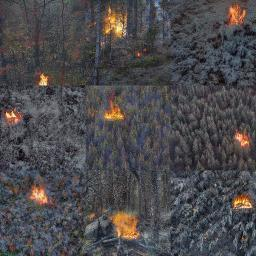Small fire: (95, 3, 139, 50), (87, 87, 136, 128), (108, 209, 150, 247), (218, 1, 256, 39), (21, 171, 57, 211), (0, 101, 33, 137), (228, 122, 256, 160), (223, 187, 256, 218), (34, 68, 55, 90)
